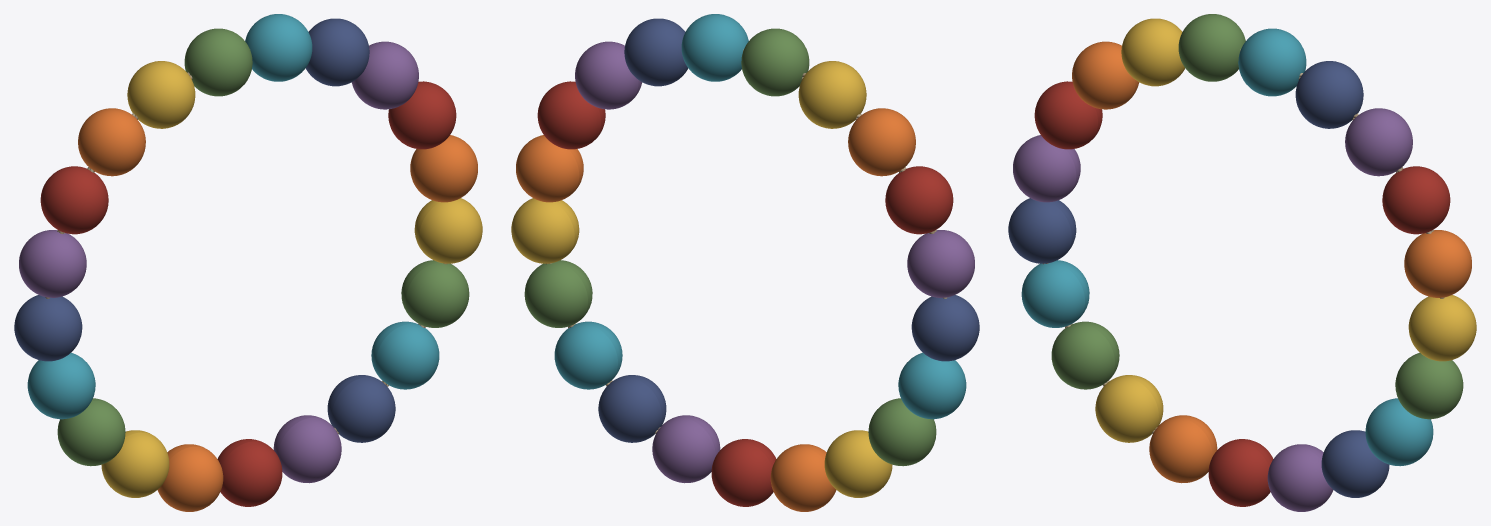
Rendered from chakra-mix-placeholder.glb.
The picture shows the model from 3 angles, left to right: view 1: azimuth 30°, elevation 25°; view 2: azimuth 150°, elevation 25°; view 3: azimuth 330°, elevation 25°; orthographic projection.
Visible parts, largest first — view 1: 19 4, 8 0, 9 1, 10 2, 20 5, 7 6, 11 3, 18 3, 21 6, 6 5, 17 2, 12 4 (+9 smaller); view 2: 19 4, 8 0, 9 1, 10 2, 20 5, 7 6, 11 3, 18 3, 21 6, 6 5, 17 2, 12 4 (+9 smaller); view 3: 4 3, 15 0, 14 6, 13 5, 3 2, 16 1, 12 4, 5 4, 2 1, 17 2, 6 5, 11 3 (+9 smaller).
Part boxes in pixels (x1,y1,x2,y2): 19 4: [371, 321, 439, 389]; 8 0: [40, 166, 108, 234]; 9 1: [78, 108, 145, 176]; 10 2: [127, 61, 195, 128]; 20 5: [327, 375, 395, 442]; 7 6: [19, 230, 86, 297]; 11 3: [184, 28, 252, 96]; 18 3: [401, 260, 469, 327]; 21 6: [273, 415, 341, 483]; 6 5: [14, 295, 82, 361]; 17 2: [414, 198, 482, 263]; 12 4: [245, 14, 312, 81]; 19 4: [554, 321, 622, 389]; 8 0: [885, 166, 953, 234]; 9 1: [848, 108, 915, 176]; 10 2: [798, 61, 866, 128]; 20 5: [598, 375, 666, 442]; 7 6: [907, 230, 974, 297]; 11 3: [741, 28, 809, 96]; 18 3: [524, 260, 592, 327]; 21 6: [652, 415, 720, 483]; 6 5: [911, 295, 979, 361]; 17 2: [511, 198, 579, 263]; 12 4: [681, 14, 748, 81]; 4 3: [1051, 321, 1119, 389]; 15 0: [1382, 166, 1450, 234]; 14 6: [1345, 108, 1412, 176]; 13 5: [1295, 61, 1363, 128]; 3 2: [1095, 375, 1163, 442]; 16 1: [1404, 230, 1471, 297]; 12 4: [1238, 28, 1306, 96]; 5 4: [1021, 260, 1089, 327]; 2 1: [1149, 415, 1217, 483]; 17 2: [1408, 295, 1476, 361]; 6 5: [1008, 198, 1076, 263]; 11 3: [1178, 14, 1245, 81].
Bounding box in the file's own units: 0.0623 × 0.0622 × 0.008.
